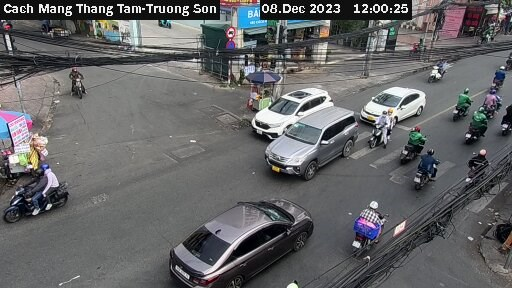car: (165, 191, 318, 287), (266, 107, 363, 182), (252, 82, 327, 131), (357, 76, 432, 122)
motorbike: (6, 172, 75, 228), (352, 200, 399, 256), (413, 152, 445, 194), (366, 112, 401, 148), (456, 146, 487, 185), (60, 72, 96, 100), (424, 58, 458, 87), (462, 112, 491, 142), (487, 60, 512, 94), (448, 86, 476, 116), (404, 128, 430, 159), (480, 91, 505, 116)
